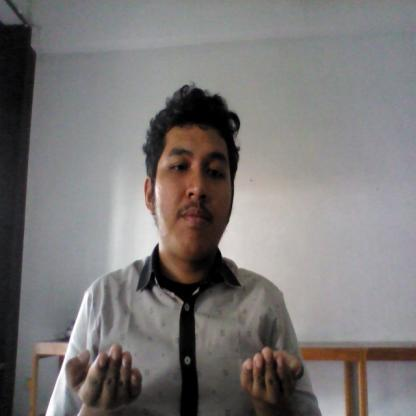Apa: (57, 341, 312, 416)
